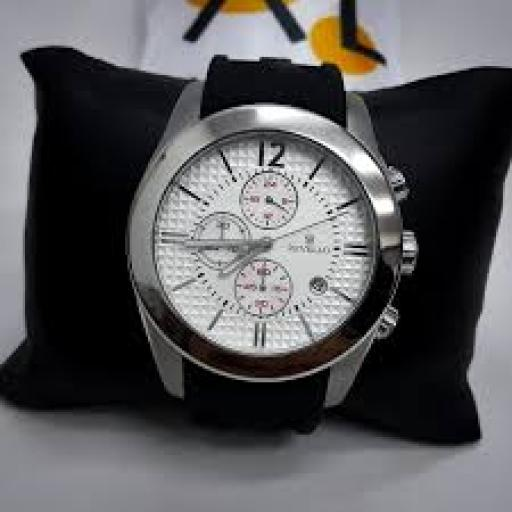KolSaati: (95, 48, 440, 460)
